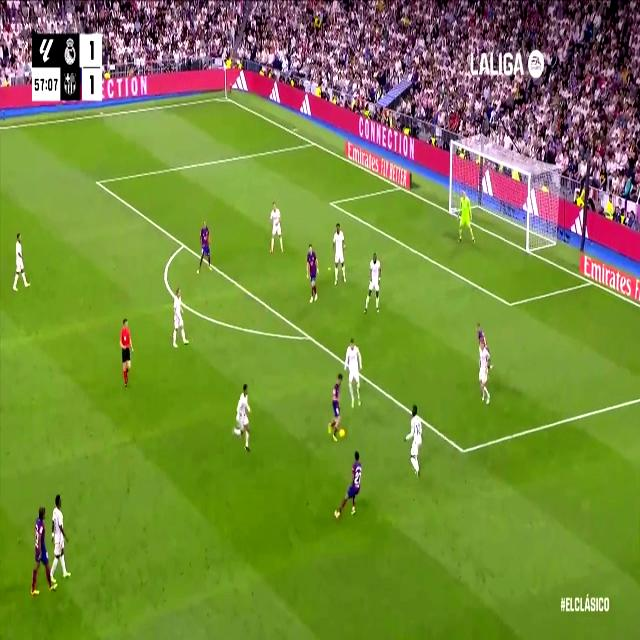bigarea_bottom_inner: (457, 435, 469, 465)
bigarea_top_inner: (93, 172, 102, 191)
bigarea_top_outter: (309, 134, 317, 150)
bottom_arc_area_intersection: (304, 327, 314, 346)
corner: (220, 91, 232, 104)
smallarea_top_inner: (327, 194, 335, 210)
top_arc_area_intersection: (180, 238, 186, 251)
